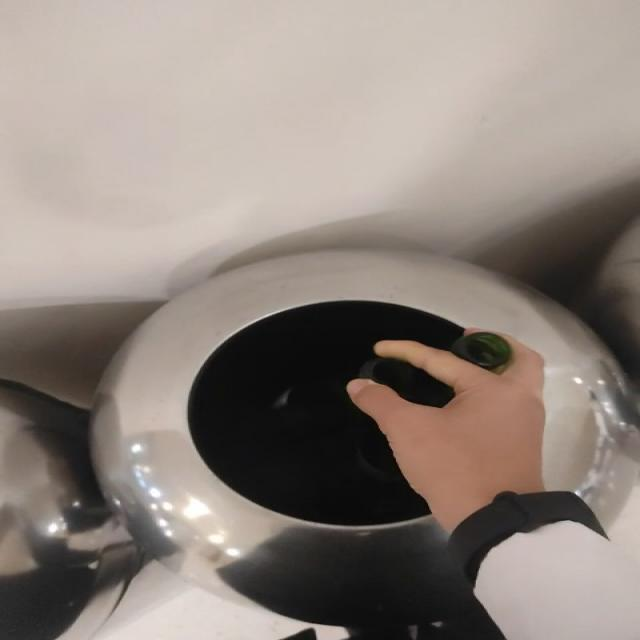glass: (273, 379, 403, 482), (357, 358, 455, 408), (451, 332, 512, 369)
